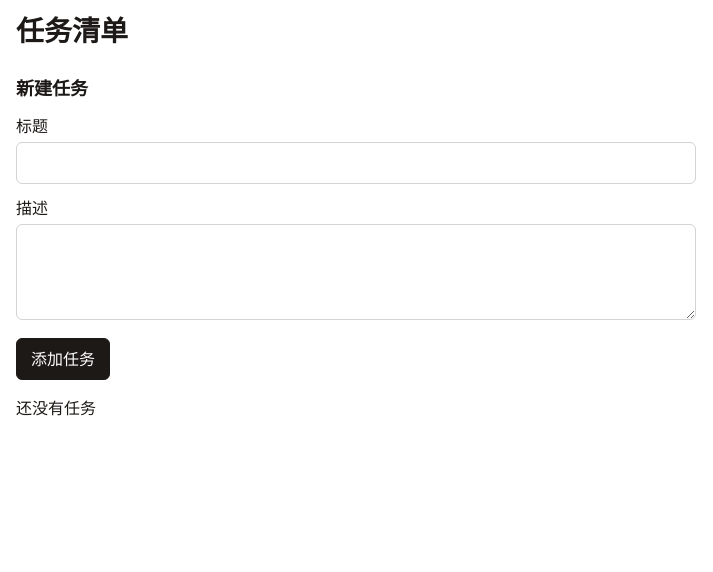
Test: creates a task and clears the form
expect the text "还没有任务" is shown: met, box [16, 397, 96, 419]
Type "买牛奶" into the field labelled "标题" at [356, 163], box [16, 142, 696, 184]
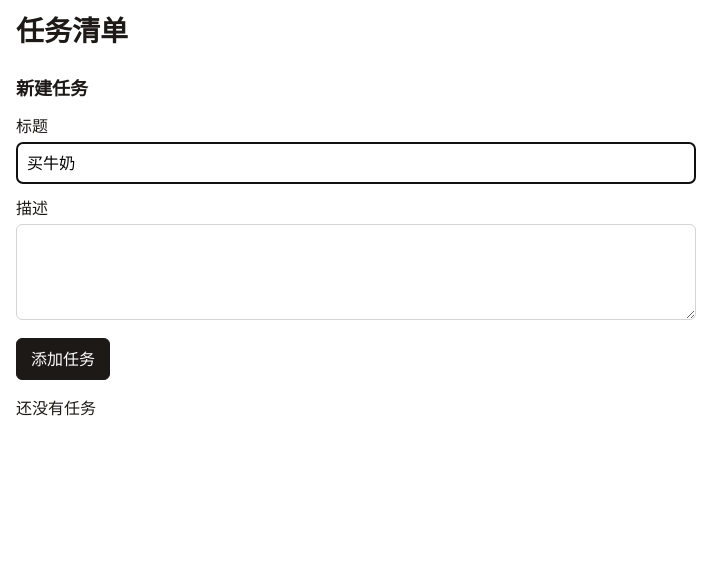
Type "一瓶" into the text box labelled "描述" at [356, 272], box [16, 224, 696, 320]
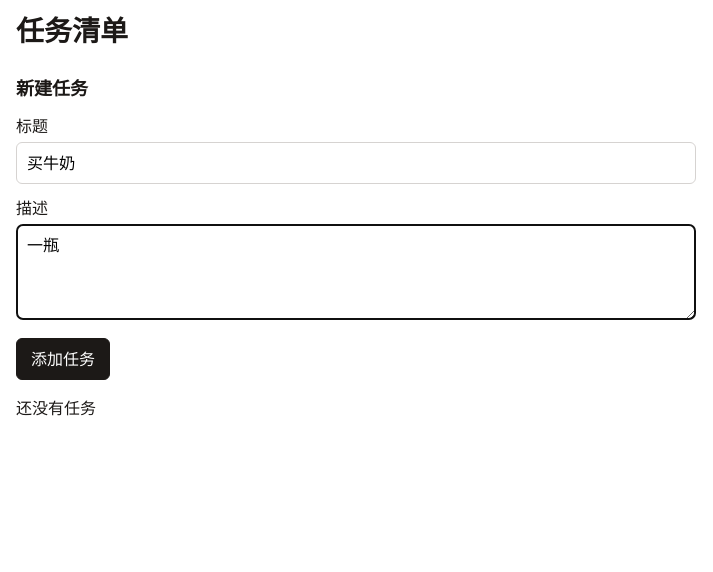
Click the button with test id "task-submit" at [63, 359], box [16, 338, 110, 380]
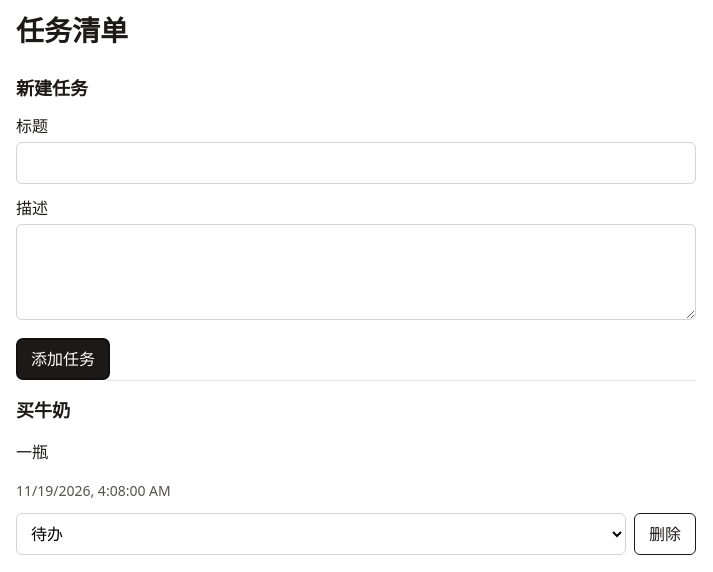
expect the element with test id "task-item-1" shows "买牛奶": met, box [16, 398, 70, 422]
expect the field labelled "标题" is empty: met, box [16, 142, 696, 184]
expect the text box labelled "描述" is empty: met, box [16, 224, 696, 320]
